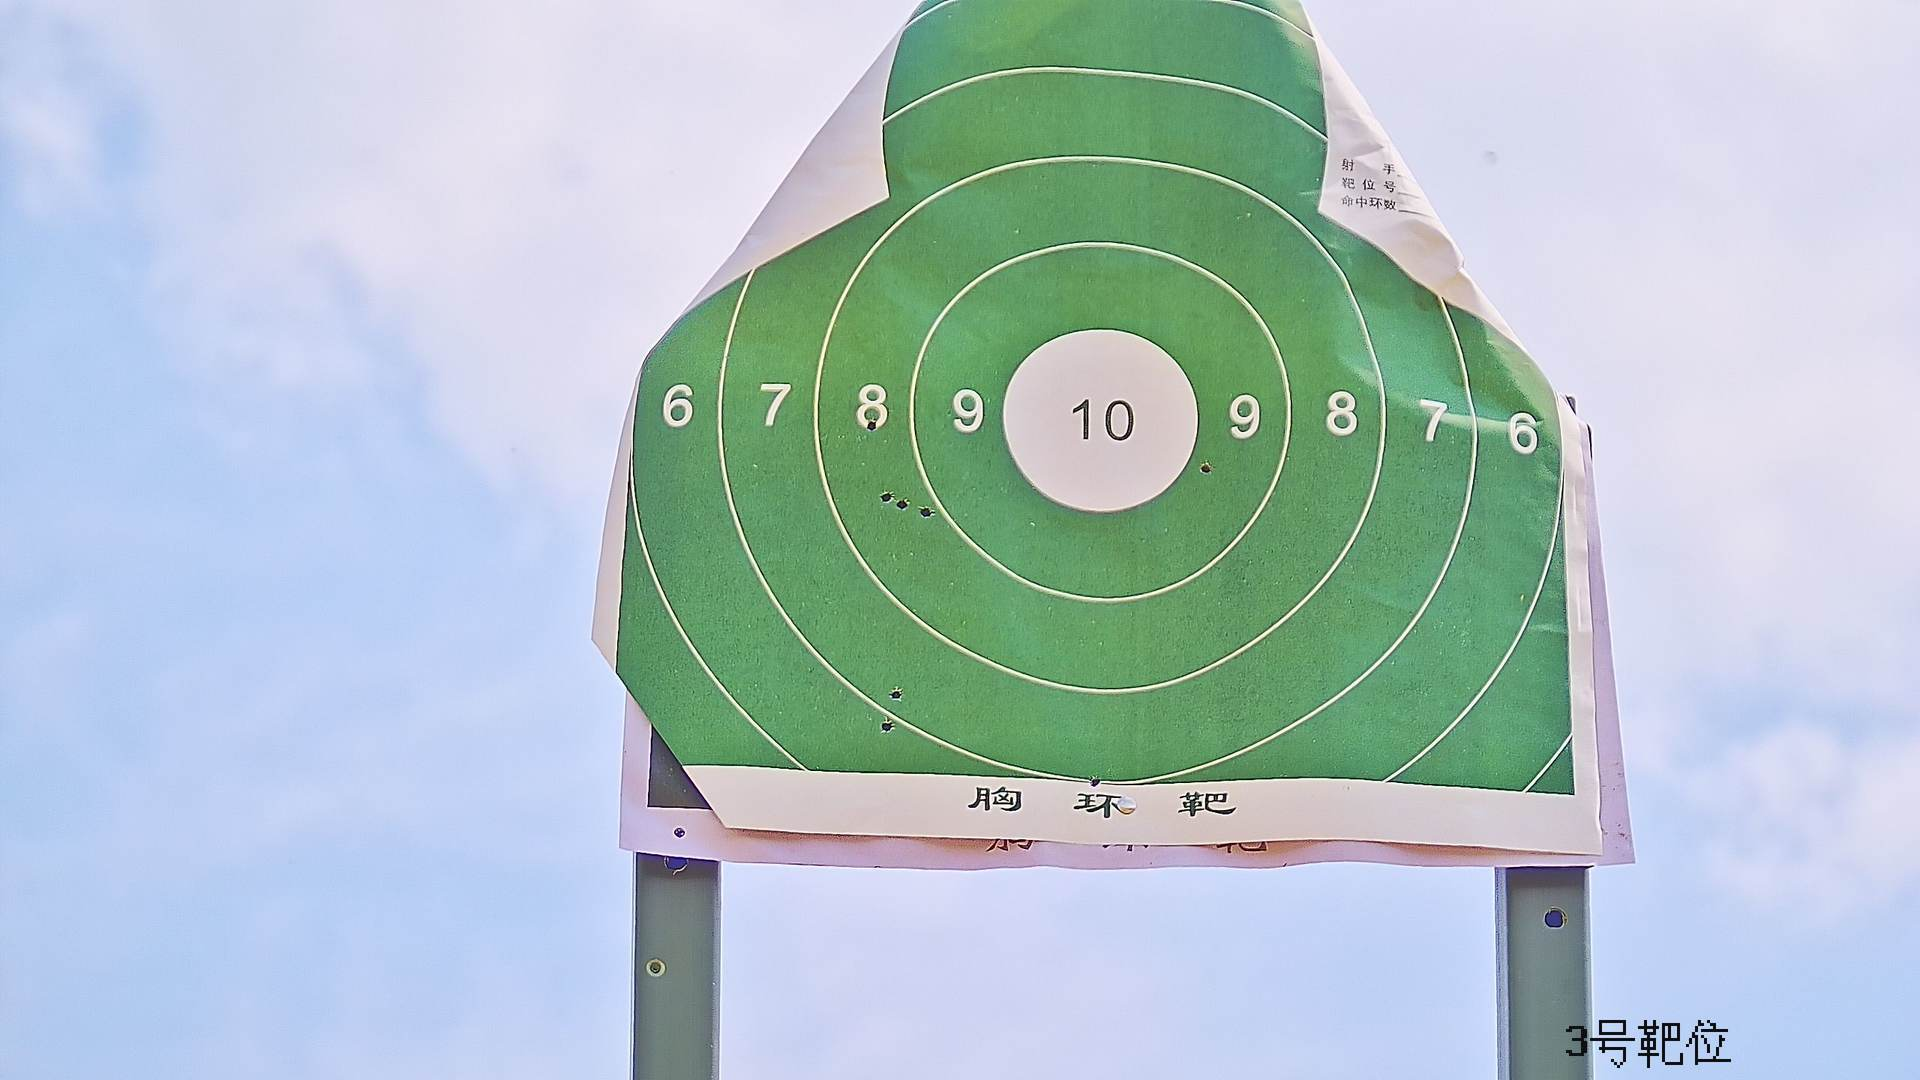hole: (1088, 775, 1101, 789), (895, 497, 910, 509), (890, 684, 901, 700), (1197, 462, 1211, 473), (864, 419, 878, 430), (920, 505, 931, 518), (880, 719, 890, 732), (880, 492, 891, 500)
kernel: (1098, 419, 1100, 425)
target: (622, 1, 1582, 800)
ten: (1004, 328, 1199, 516)
